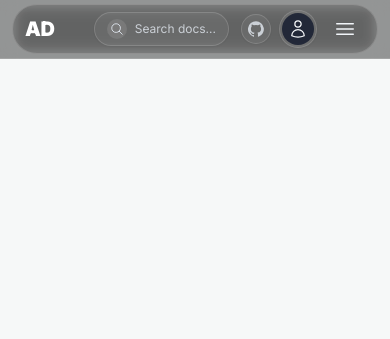
Test case: Navbar docs search › hydrates recent documents from localStorage when opening the search dialog
Click the button "Search docs...".
click(161, 29)  # box [94,12,229,46]
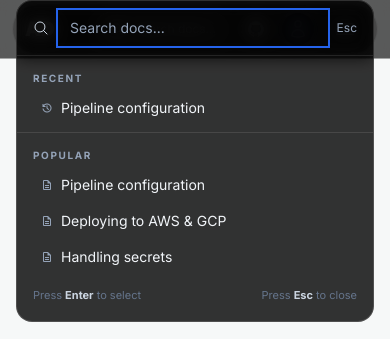
Expected: the button "Pipeline configuration" below "Recent" is shown, [33,92,357,124]
